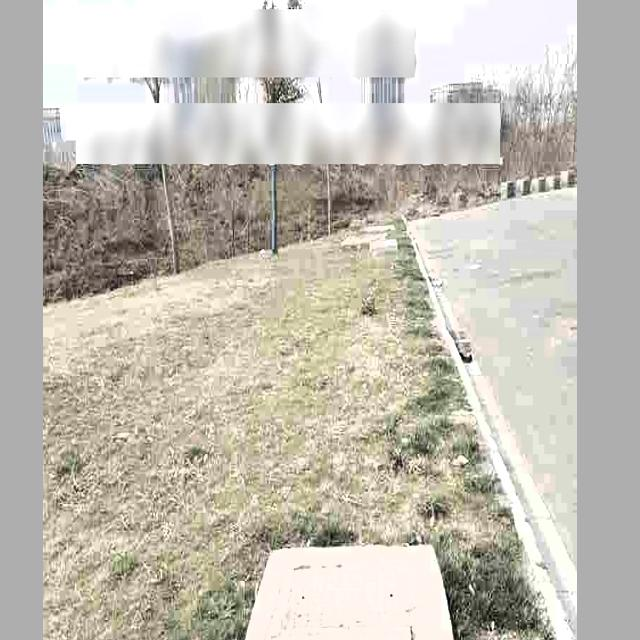good: (256, 560, 428, 640)
